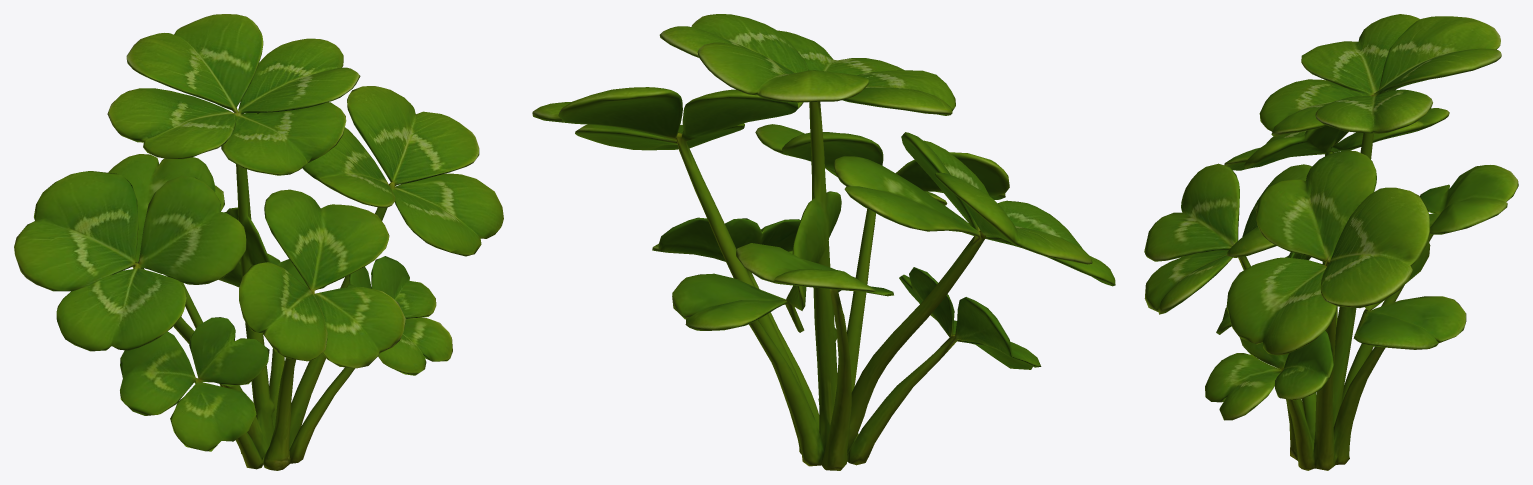
The picture shows the model from 3 angles, left to right: view 1: azimuth 30°, elevation 25°; view 2: azimuth 150°, elevation 25°; view 3: azimuth 270°, elevation 25°; orthographic projection. The views are drawn at different scales.
Visible parts, largest first — view 1: Mega clover; view 2: Mega clover; view 3: Mega clover.
Boxes of the visible parts, <box> form: Mega clover: <box>14,14,503,470</box>; Mega clover: <box>532,14,1115,470</box>; Mega clover: <box>1144,14,1518,470</box>.
Bounding box in the file's own units: 12 × 9.65 × 7.86.
1 material, 1 textured.
